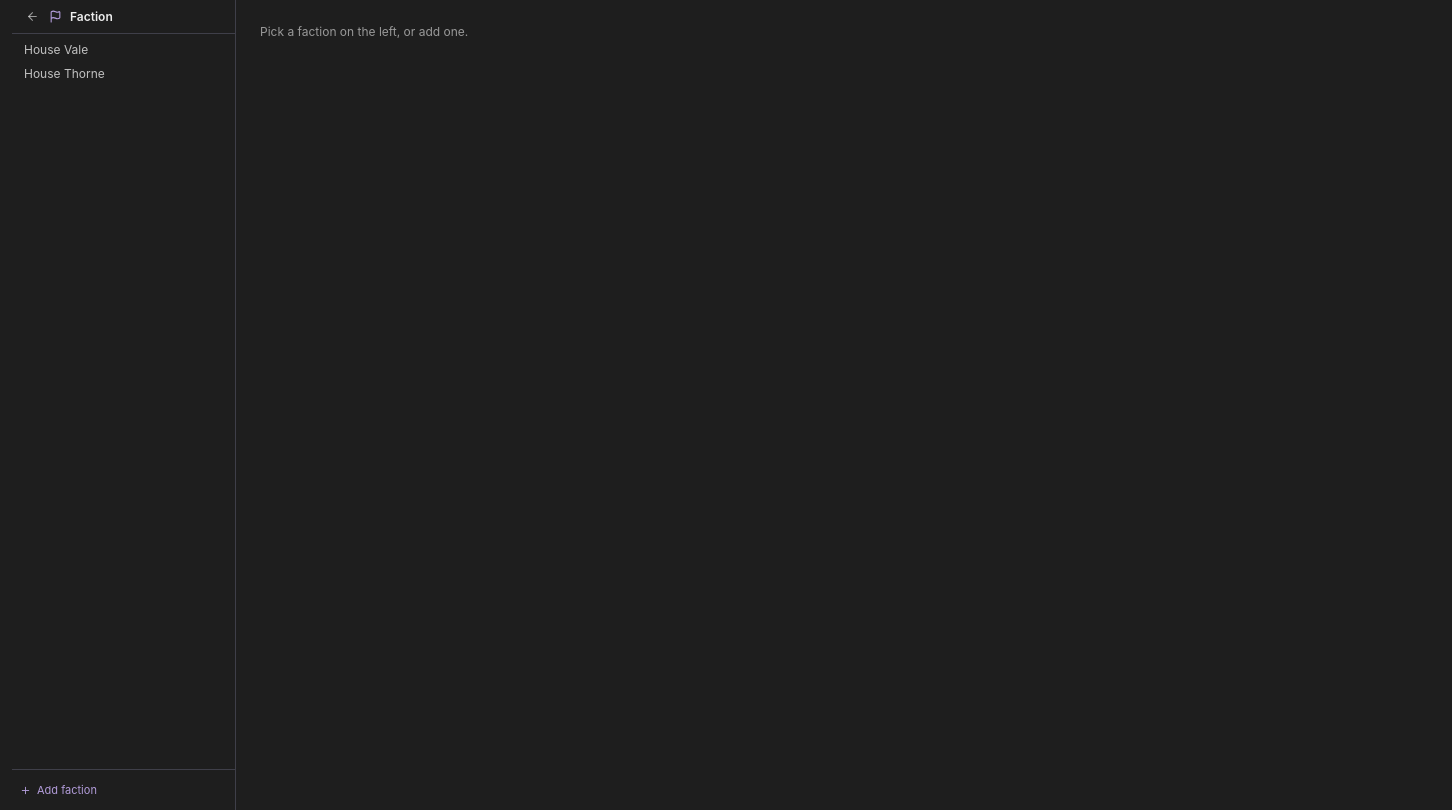
the sections come from the registry › shows the headings this KIND has, not a fixed set
Expected: the element with test id "thread-editor" is shown, [12,0,468,809]
Click the button "House Vale" at (124, 50), box [12,38,235,62]
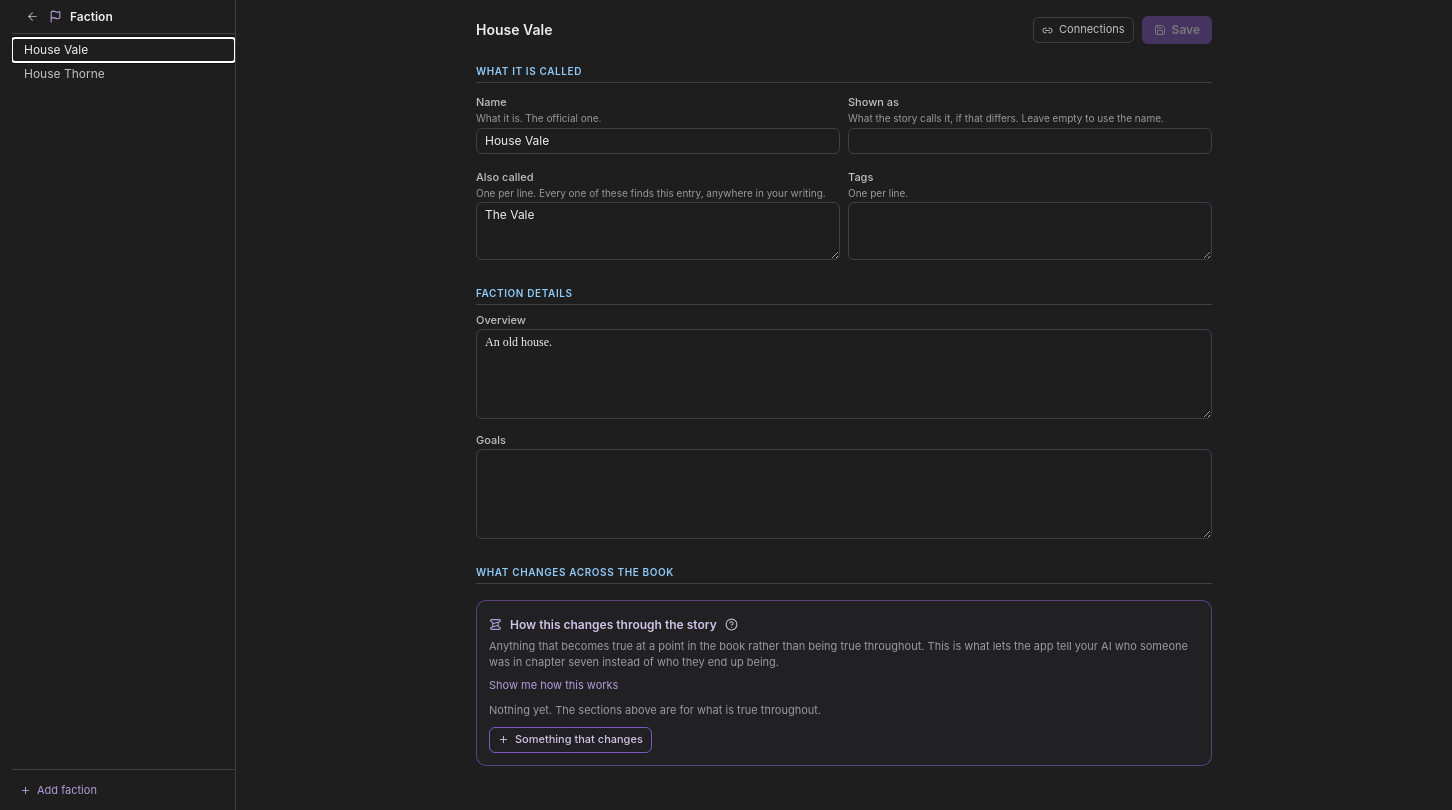
Expected: the field labelled "Name" is shown, [476,128,840,154]
Expected: the text box labelled "Overview" is shown, [476,329,1212,419]
Expected: the text box labelled "Goals" is shown, [476,449,1212,539]
